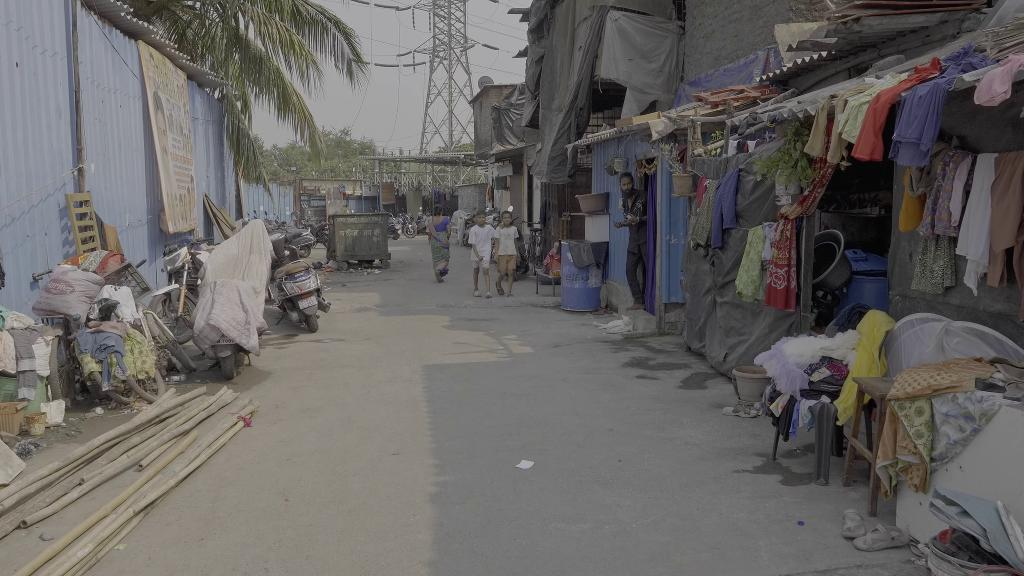dustbin: (325, 207, 400, 277)
